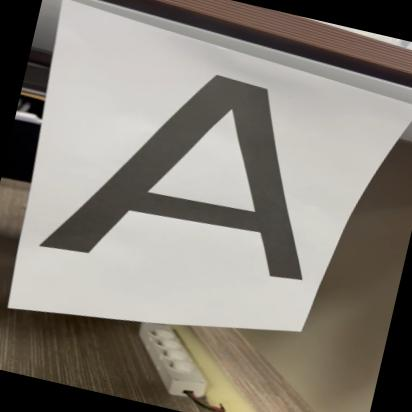seat: (27, 38, 357, 308)
